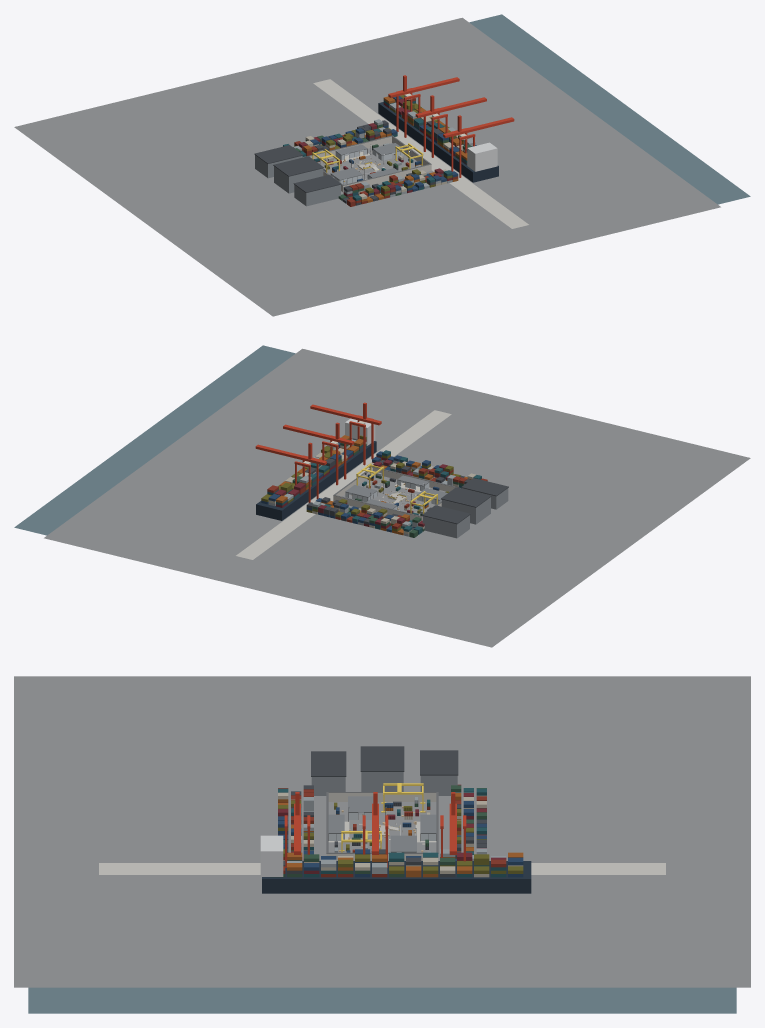
Rendered from port.glb.
3 renders of one model, top to bottom at view 1: azimuth 30°, elevation 25°; view 2: azimuth 150°, elevation 25°; view 3: azimuth 270°, elevation 25°, orthographic. The views are drawn at different scales.
Parts seen in each view (by area): view 1: port_asphalt, port_far, port_water, port_slab, port_wall, port_roof, port_steel, port_paint; view 2: port_asphalt, port_far, port_water, port_slab, port_wall, port_roof, port_steel, port_paint; view 3: port_asphalt, port_far, port_water, port_slab, port_roof, port_paint, port_wall, port_yellow, port_steel.
Part boxes in pixels (bbox=[...]): port_asphalt: bbox=[14, 17, 720, 316]; port_far: bbox=[254, 75, 514, 206]; port_water: bbox=[469, 14, 750, 204]; port_slab: bbox=[313, 79, 528, 228]; port_wall: bbox=[310, 136, 431, 192]; port_roof: bbox=[331, 143, 403, 180]; port_steel: bbox=[304, 135, 431, 185]; port_paint: bbox=[313, 143, 421, 181]; port_asphalt: bbox=[44, 348, 750, 647]; port_far: bbox=[255, 402, 508, 538]; port_water: bbox=[14, 345, 295, 535]; port_slab: bbox=[236, 410, 451, 559]; port_wall: bbox=[333, 467, 454, 520]; port_roof: bbox=[345, 475, 447, 508]; port_steel: bbox=[333, 466, 460, 516]; port_paint: bbox=[355, 472, 448, 515]; port_asphalt: bbox=[14, 676, 750, 987]; port_far: bbox=[260, 746, 531, 893]; port_water: bbox=[28, 987, 736, 1013]; port_slab: bbox=[99, 821, 665, 874]; port_roof: bbox=[328, 796, 436, 851]; port_paint: bbox=[334, 797, 430, 852]; port_wall: bbox=[326, 793, 436, 860]; port_yellow: bbox=[340, 783, 425, 852]; port_steel: bbox=[326, 792, 438, 853].
Size of the model in its own units: 560 by 65.6 by 520.
